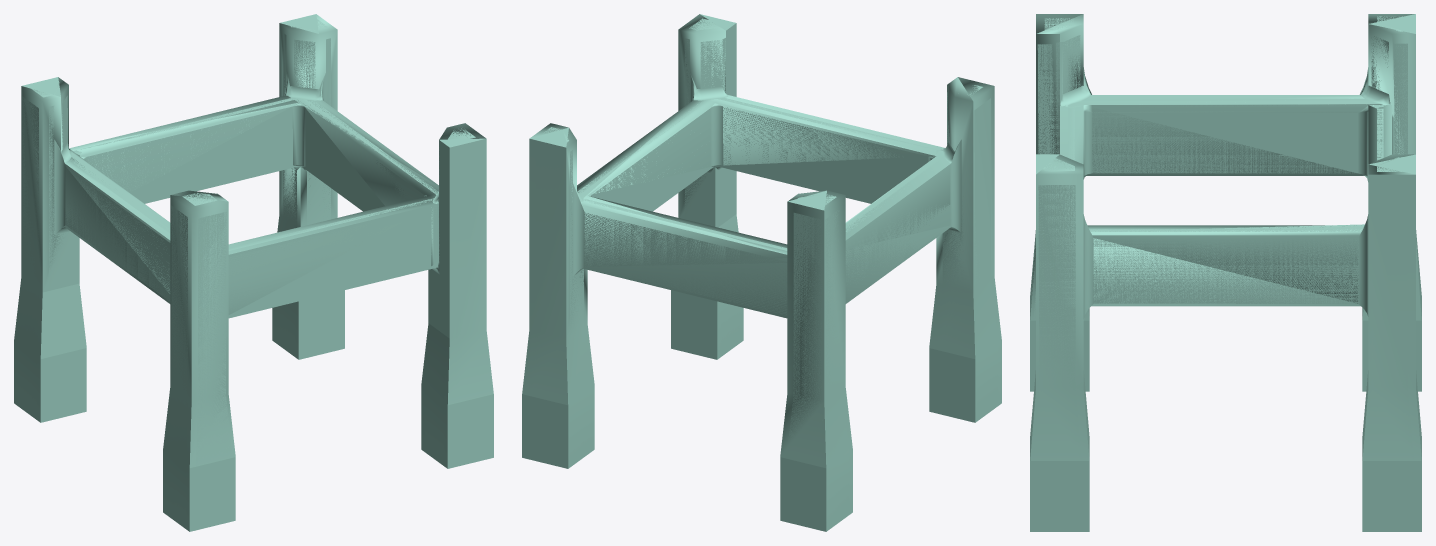
Rendered from space-kit__supports_low.glb.
3 renders of one model, left to right at view 1: azimuth 30°, elevation 25°; view 2: azimuth 150°, elevation 25°; view 3: azimuth 270°, elevation 25°, orthographic. The views are drawn at different scales.
Parts seen in each view (by area): view 1: L1_accent, L0_accent; view 2: L1_accent, L0_accent; view 3: L0_accent, L1_accent.
Boxes of the visible parts, x1,y1,x2,y2 form: L1_accent: [14, 14, 493, 531]; L0_accent: [16, 19, 490, 520]; L1_accent: [522, 14, 1001, 531]; L0_accent: [528, 18, 998, 522]; L0_accent: [1030, 16, 1421, 522]; L1_accent: [1030, 14, 1421, 531].
Bounding box in the file's own units: 1 × 1 × 1.
